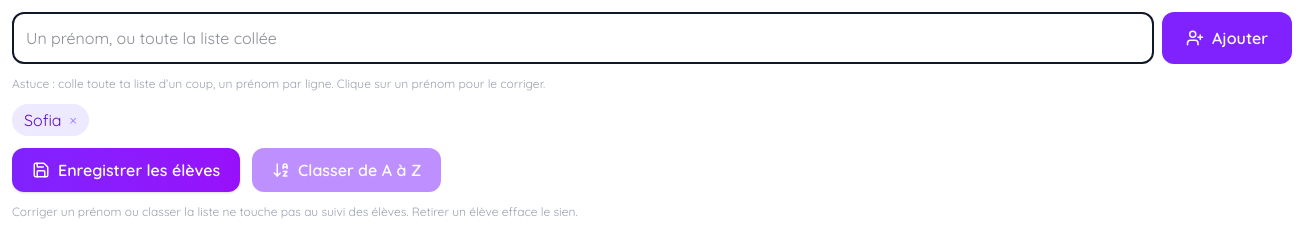
Scenario: corriger un prénom › ouvre le prénom à la correction quand on clique dessus
Click the button titled "Corriger ce prénom" at (43, 120), box [24, 108, 62, 132]
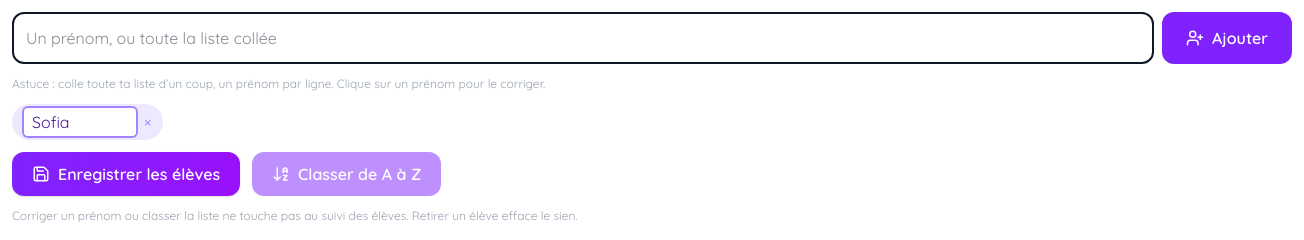
Expected: the field named "Corriger le prénom Sofia" is shown, [24, 108, 136, 136]
